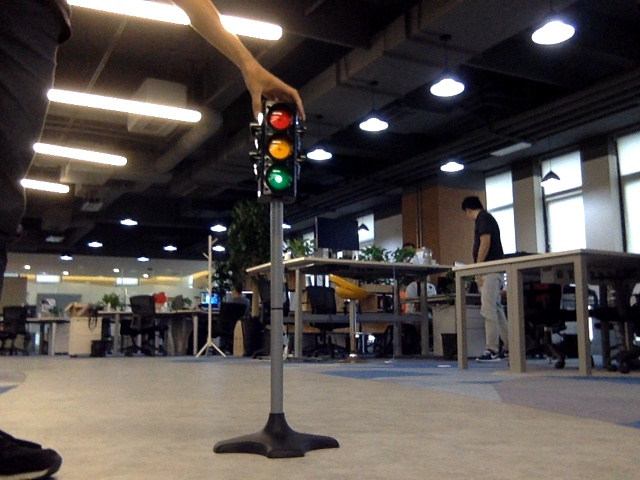green: (263, 112, 291, 192)
